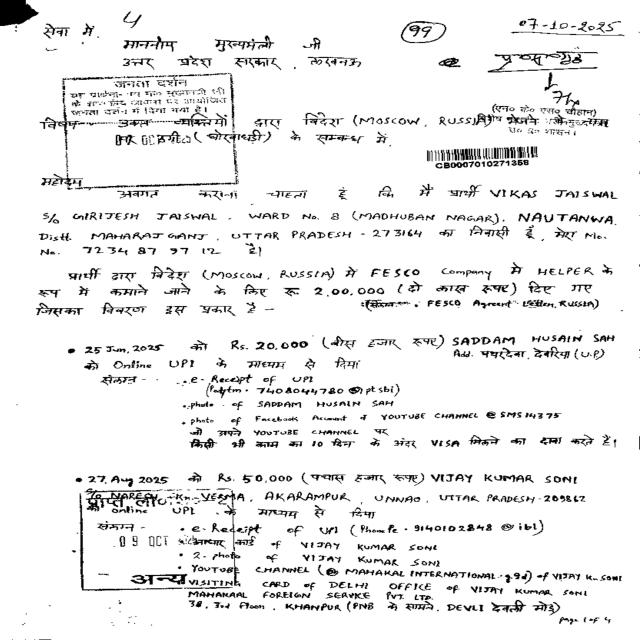antritgovtstamp: (73, 487, 245, 592)
barcode: (426, 144, 546, 171)
jantadarsan: (59, 72, 242, 190)
signnamestamp: (489, 64, 617, 138)
